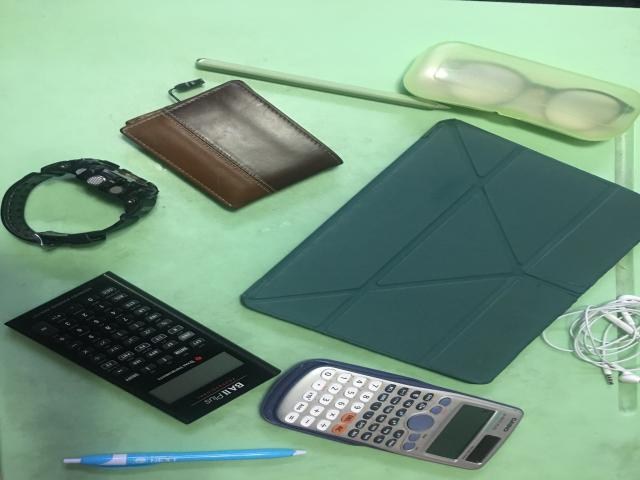Glasses: (403, 41, 638, 141)
Pen: (63, 449, 307, 469)
Wallet: (120, 80, 343, 209)
Watch: (2, 158, 158, 248)
wire: (542, 294, 640, 384)
